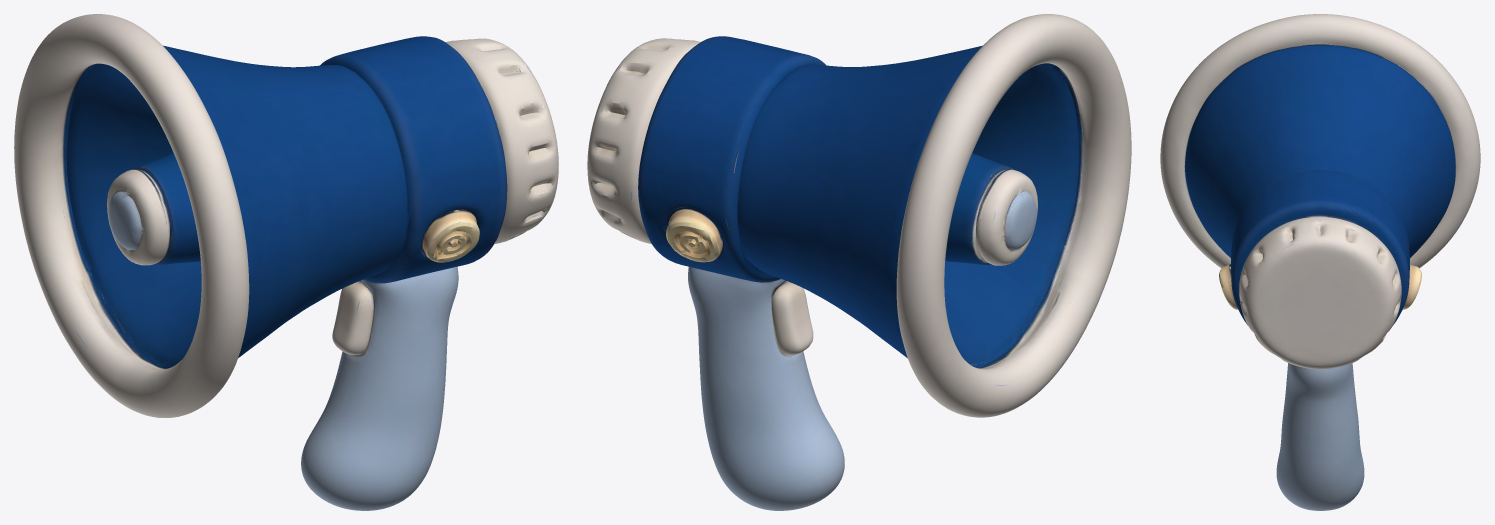
File: megaphone.glb
The picture shows the model from 3 angles, left to right: view 1: azimuth 30°, elevation 25°; view 2: azimuth 150°, elevation 25°; view 3: azimuth 270°, elevation 25°; orthographic projection. The views are drawn at different scales.
Bounding box in the file's own units: 1.52 × 1.9 × 1.37.
Materials: 1 (1 with a texture image).
